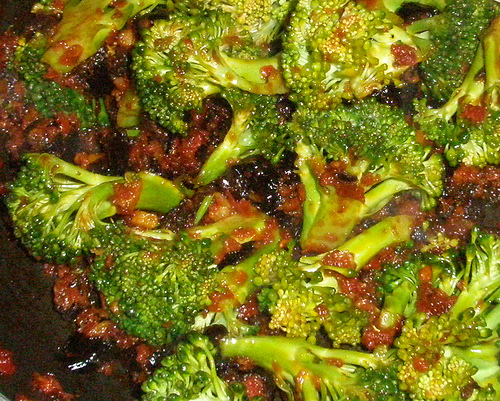broccoli: (296, 99, 443, 250)
